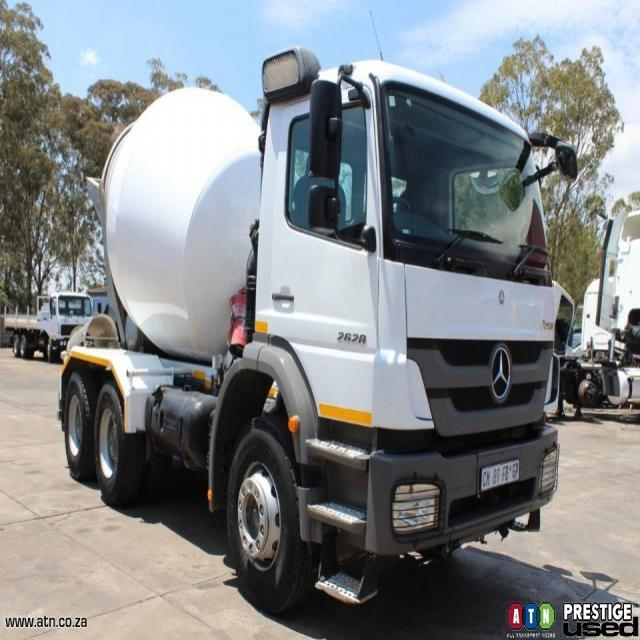Mixer Truck: (58, 46, 560, 612)
